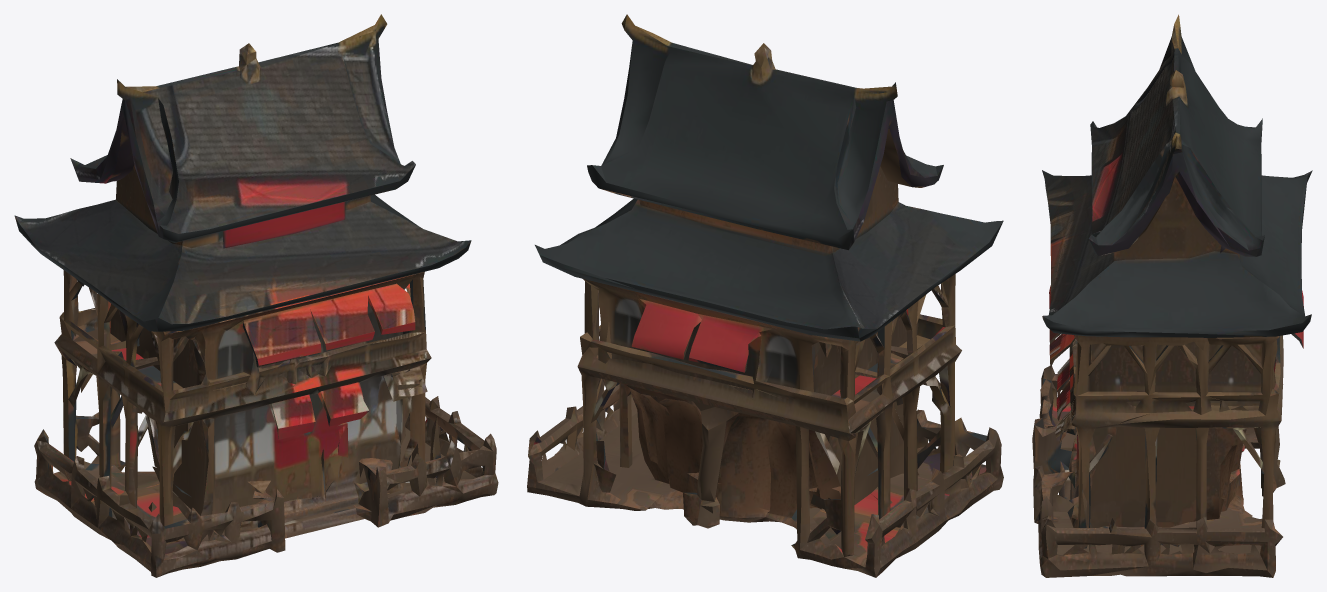
File: ayutthaya_kraal_real.glb
3 renders of one model, left to right at view 1: azimuth 30°, elevation 25°; view 2: azimuth 150°, elevation 25°; view 3: azimuth 270°, elevation 25°, orthographic. The views are drawn at different scales.
Parts seen in each view (by area): view 1: geometry_0; view 2: geometry_0; view 3: geometry_0.
Boxes of the visible parts, box(x1,y1,x2,y2) form: geometry_0: box(14, 14, 498, 577); geometry_0: box(527, 14, 1003, 577); geometry_0: box(1032, 14, 1312, 577).
Bounding box in the file's own units: 3.4 × 4.2 × 2.51.
Materials: 1 (1 with a texture image).
